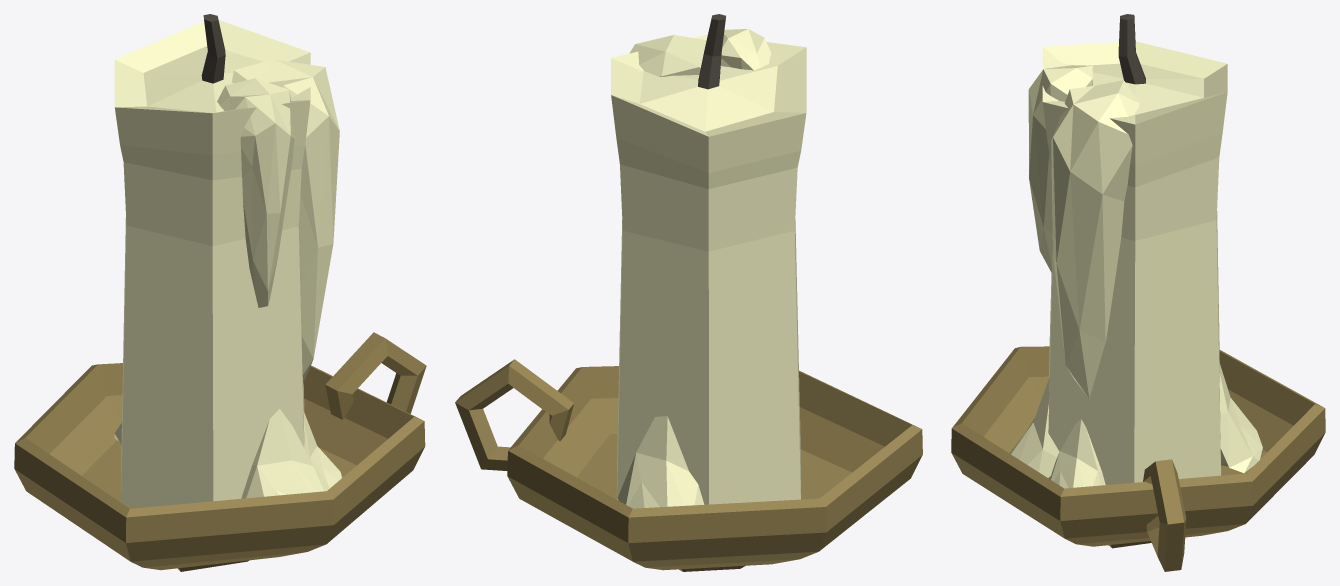
Rendered from candle_2.fbx.
3 renders of one model, left to right at view 1: azimuth 30°, elevation 25°; view 2: azimuth 150°, elevation 25°; view 3: azimuth 270°, elevation 25°, orthographic. The views are drawn at different scales.
Visible parts, largest first — view 1: pTorus4; view 2: pTorus4; view 3: pTorus4.
Boxes of the visible parts, x1,y1,x2,y2 form: pTorus4: (14,14,426,571); pTorus4: (455,14,922,571); pTorus4: (951,14,1325,571).
Bounding box in the file's own units: 0.1862 × 0.2428 × 0.1643.
